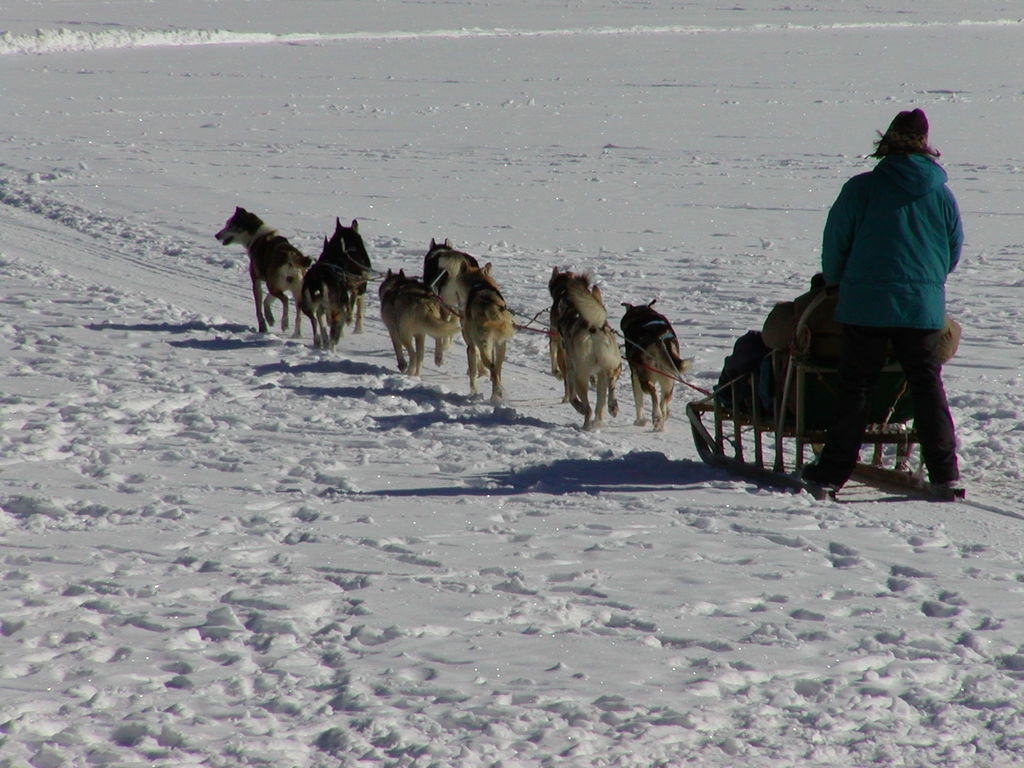Person: (803, 107, 964, 491)
